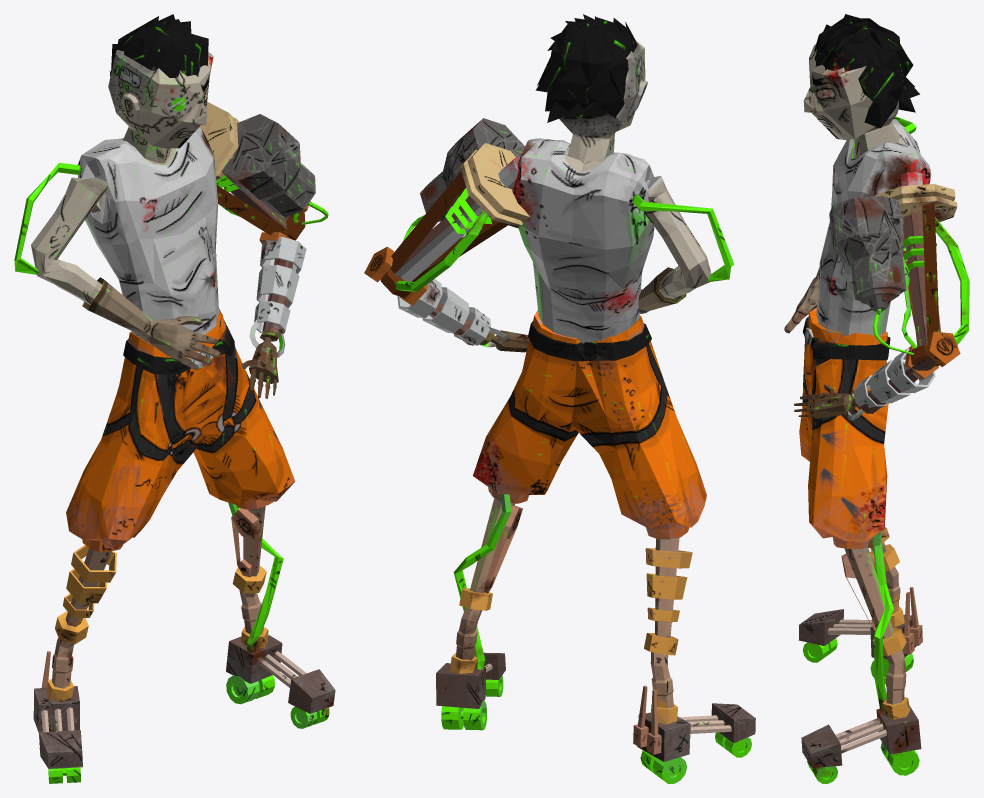
File: CyborgFINALAnimation_000032.obj
The picture shows the model from 3 angles, left to right: view 1: azimuth 30°, elevation 25°; view 2: azimuth 150°, elevation 25°; view 3: azimuth 270°, elevation 25°; orthographic projection. The views are drawn at different scales.
Visible parts, largest first — view 1: CyborgMesh_Cube.002; view 2: CyborgMesh_Cube.002; view 3: CyborgMesh_Cube.002.
Boxes of the visible parts, x1,y1,x2,y2 form: CyborgMesh_Cube.002: [14, 14, 335, 783]; CyborgMesh_Cube.002: [364, 14, 755, 783]; CyborgMesh_Cube.002: [784, 14, 969, 783].
Bounding box in the file's own units: 4.55 × 9.6 × 2.31.
